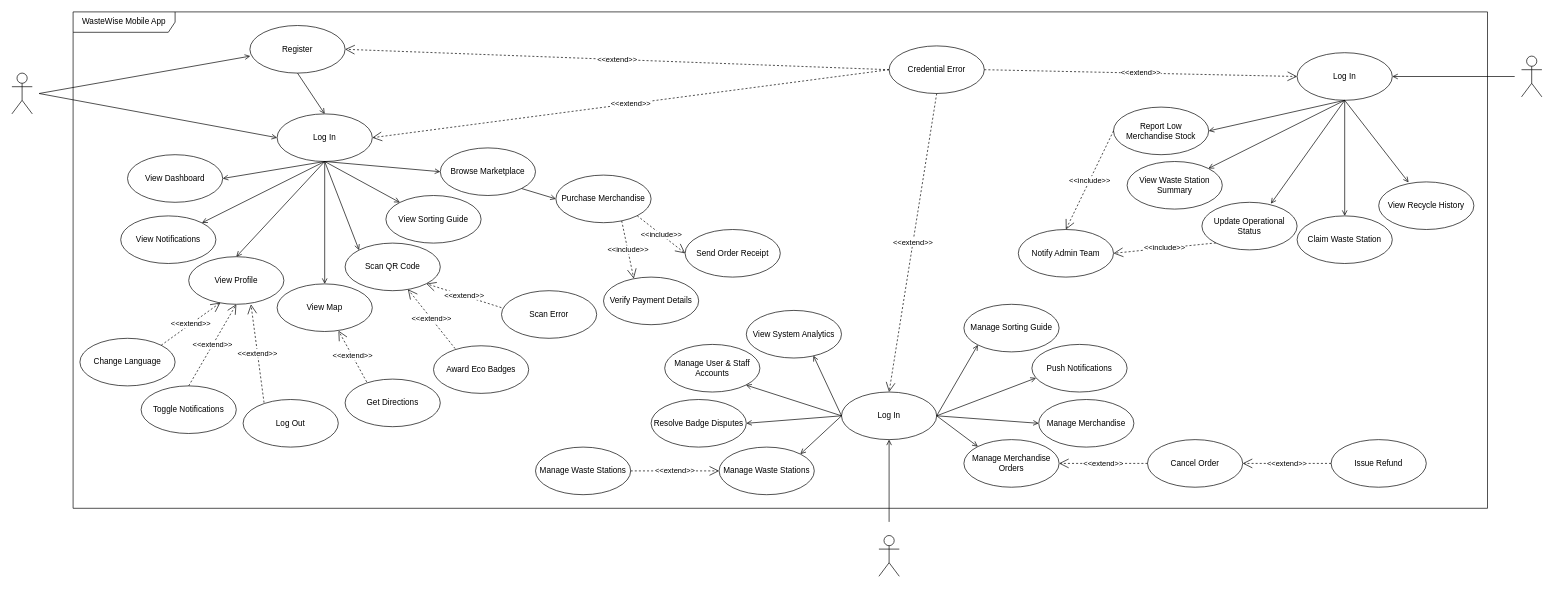
Image size: 1554x602. Some labels were removed from this diagram. Each missing label, with the centre of its shape:
Admin: point 888,555
Staff: point 1531,76
User: point 21,93
